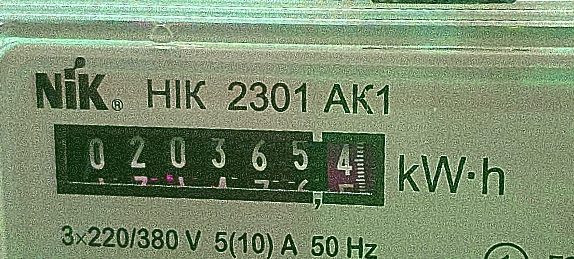0: (84, 134, 108, 170), (167, 132, 188, 170)
2: (124, 132, 149, 169)
3: (207, 133, 228, 169)
4: (334, 140, 355, 176)
5: (288, 137, 310, 171)
6: (248, 135, 270, 172)
screen: (32, 97, 407, 227)
